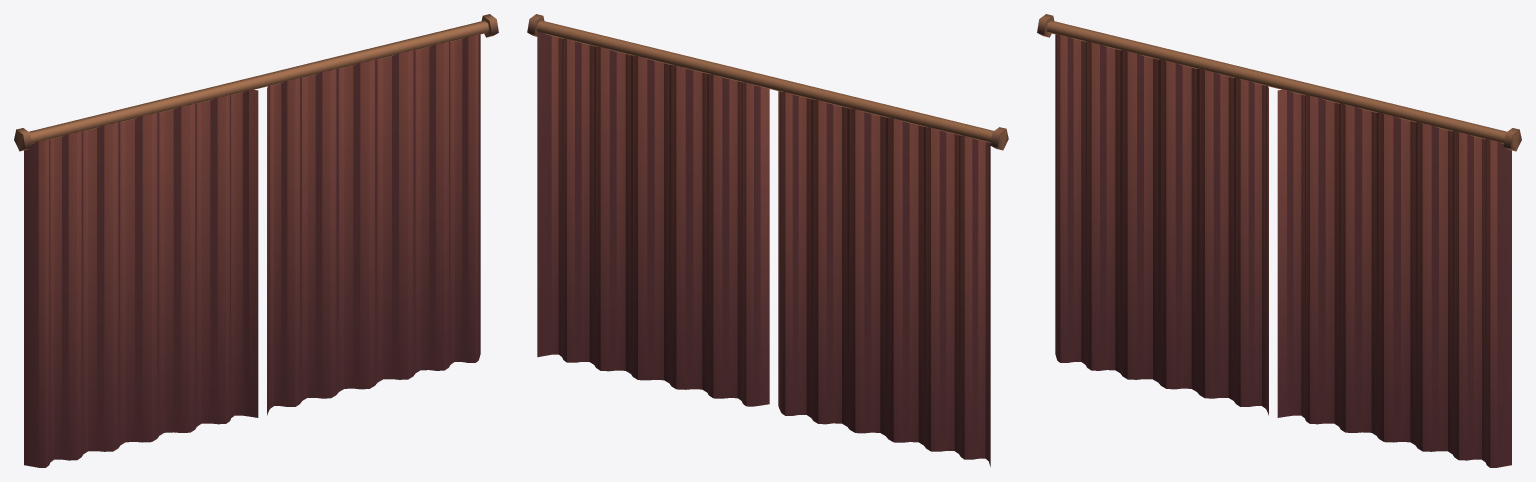
The model's file is M_closedcurtains.FBX.
3 renders of one model, left to right at view 1: azimuth 30°, elevation 25°; view 2: azimuth 150°, elevation 25°; view 3: azimuth 330°, elevation 25°, orthographic.
Visible parts, largest first — view 1: Cylinder016; view 2: Cylinder016; view 3: Cylinder016.
Boxes of the visible parts, x1=… form: Cylinder016: x1=14, y1=14, x2=498, y2=467; Cylinder016: x1=527, y1=14, x2=1008, y2=466; Cylinder016: x1=1037, y1=14, x2=1521, y2=467.
Size of the model in its own units: 5.86 by 4 by 0.2528.
